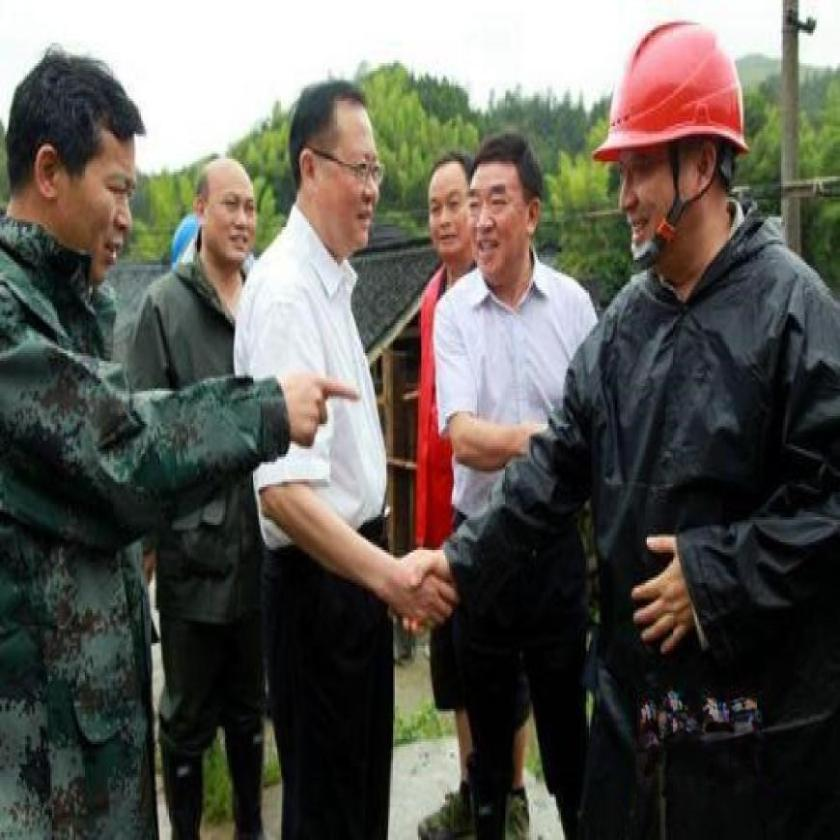Con_casco: (587, 15, 753, 288)
Sin_casco: (2, 50, 164, 267), (280, 79, 392, 261), (463, 131, 546, 297), (194, 154, 261, 266), (424, 149, 477, 271)
